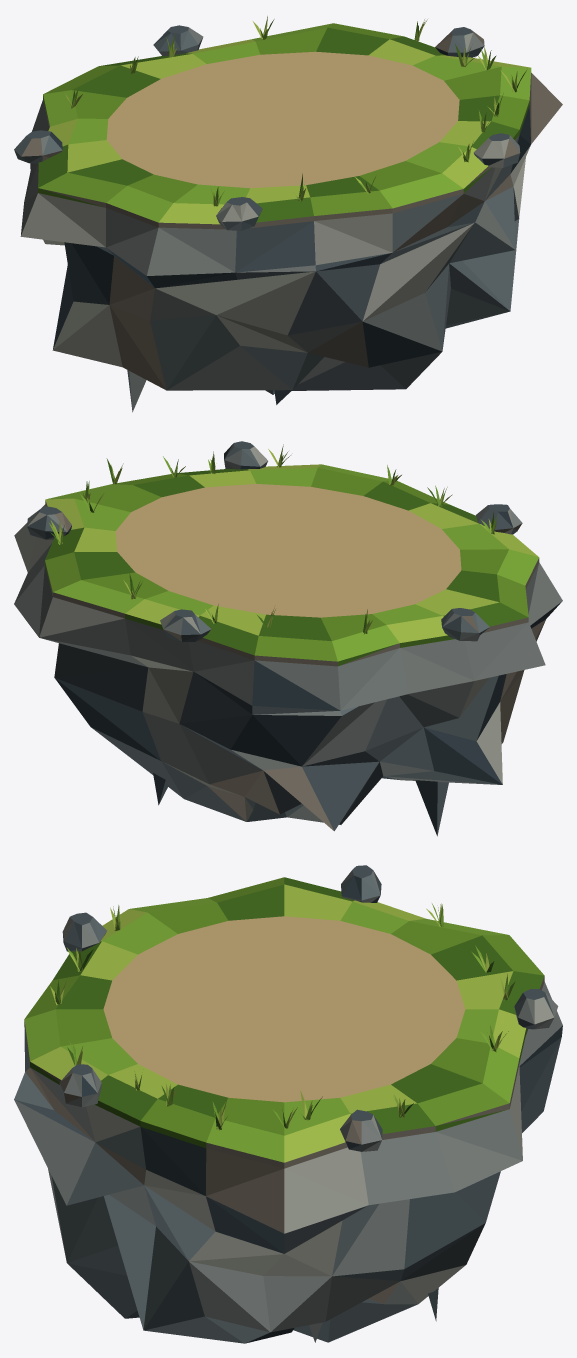
Rendered from wide.glb.
3 views of the same model, one above another, from view 1: azimuth 30°, elevation 25°; view 2: azimuth 150°, elevation 25°; view 3: azimuth 270°, elevation 25° (orthographic). The views are drawn at different scales.
Parts seen in each view (by area): view 1: ENV_WideLanding_Visual; view 2: ENV_WideLanding_Visual; view 3: ENV_WideLanding_Visual.
Part boxes in pixels (left/top/right/bottom): ENV_WideLanding_Visual: left=14, top=16, right=562, bottom=412; ENV_WideLanding_Visual: left=14, top=441, right=562, bottom=836; ENV_WideLanding_Visual: left=14, top=865, right=562, bottom=1343.
Size of the model in its own units: 5.16 by 2.67 by 3.82.
